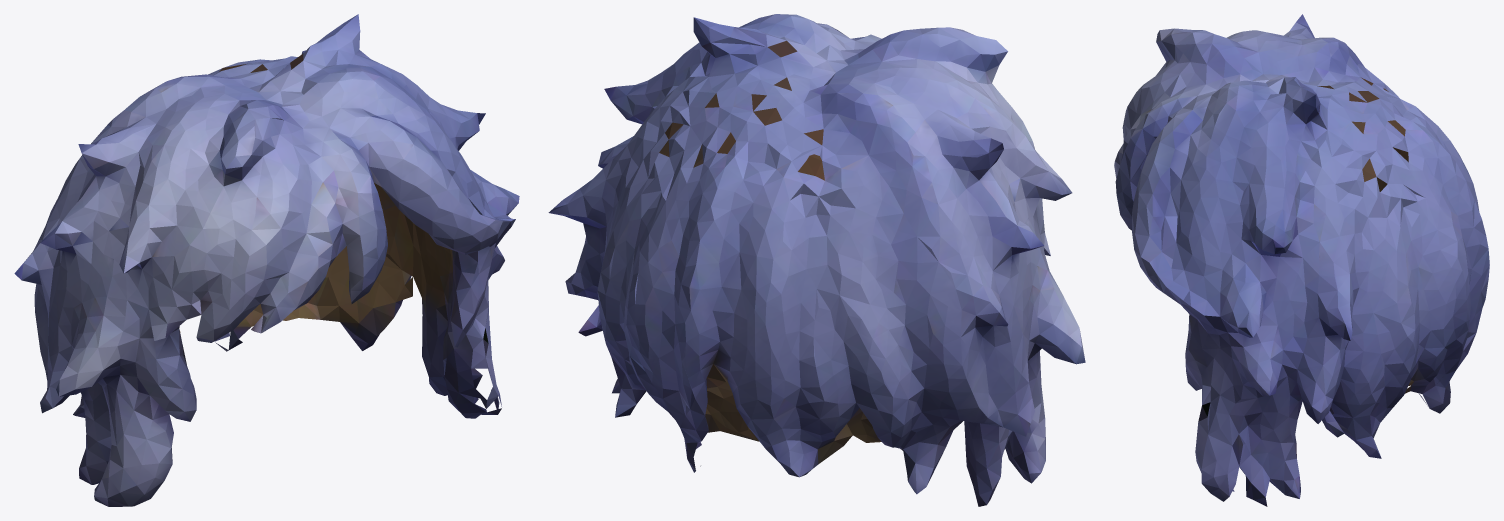
The model's file is hairstyle_096.glb.
3 renders of one model, left to right at view 1: azimuth 30°, elevation 25°; view 2: azimuth 150°, elevation 25°; view 3: azimuth 270°, elevation 25°, orthographic. The views are drawn at different scales.
Parts seen in each view (by area): view 1: geometry_0_096; view 2: geometry_0_096; view 3: geometry_0_096.
Boxes of the visible parts, <box> form: geometry_0_096: <box>14,14,519,506</box>; geometry_0_096: <box>548,14,1085,506</box>; geometry_0_096: <box>1114,14,1489,506</box>.
Bounding box in the file's own units: 1.38 × 1.15 × 1.03.
Materials: 1 (1 with a texture image).
